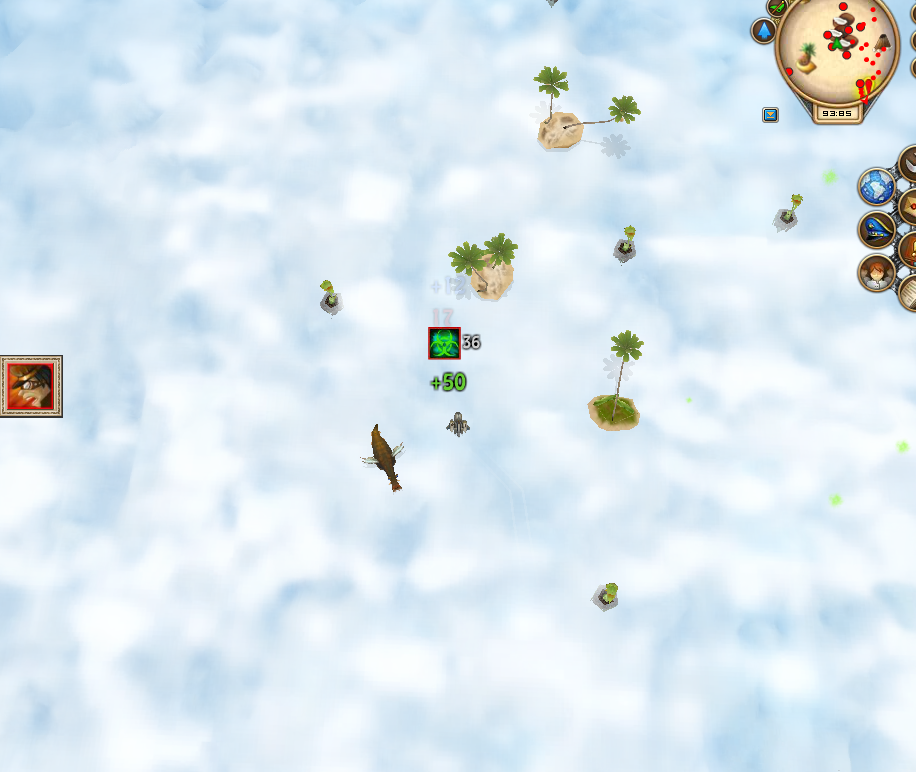palm: (519, 64, 644, 154), (582, 327, 648, 436), (444, 225, 523, 309)
